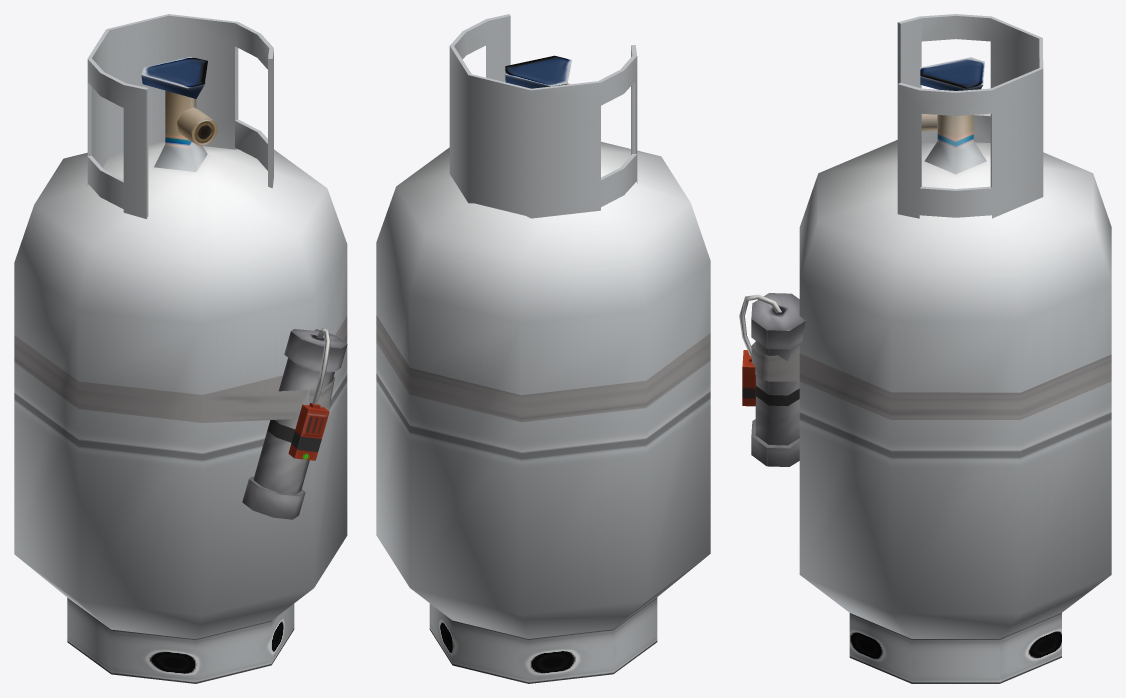
File: PropaneBomb_Mesh.fbx
3 views of the same model, side by side, from view 1: azimuth 30°, elevation 25°; view 2: azimuth 150°, elevation 25°; view 3: azimuth 270°, elevation 25° (orthographic).
Visible parts, largest first — view 1: PropaneTankBomb; view 2: PropaneTankBomb; view 3: PropaneTankBomb.
Boxes of the visible parts, box(x1,y1,x2,y2) form: PropaneTankBomb: box(14, 14, 347, 683); PropaneTankBomb: box(376, 14, 710, 683); PropaneTankBomb: box(739, 14, 1111, 683).
Size of the model in its own units: 54.7 by 113 by 65.3.
